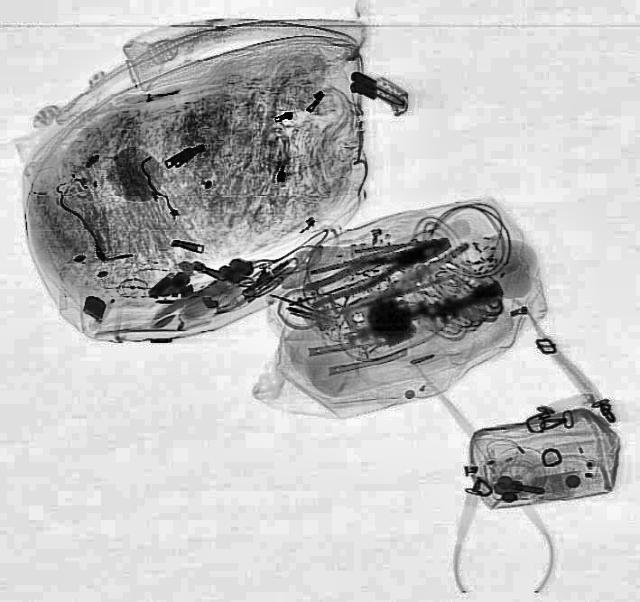Pliers: (298, 230, 454, 310)
